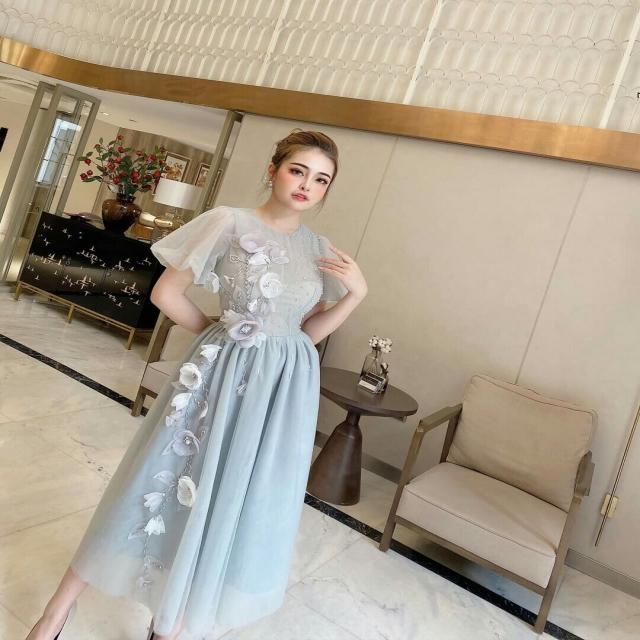clothes: (75, 204, 345, 640)
